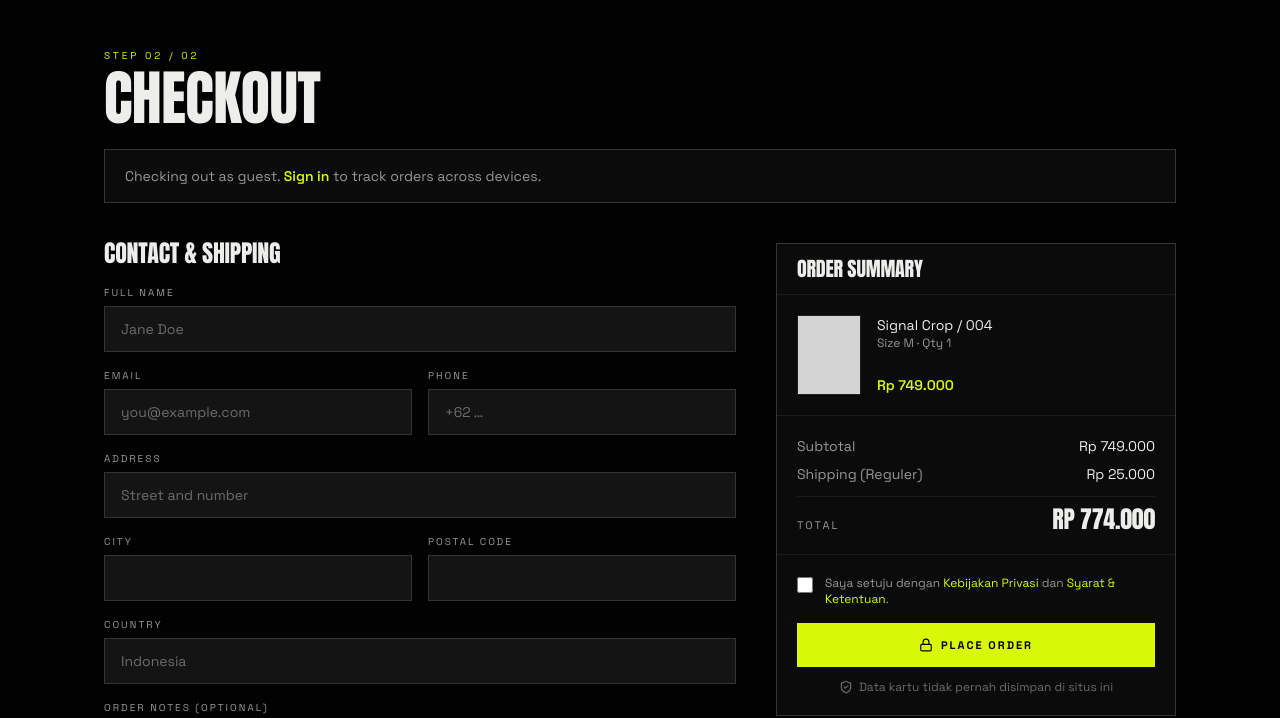
Test case: Checkout — validation › blocks submission and lists field errors when the form is empty
The width and height of the screenshot is (1280, 718).
Click the button "Place order".
click(976, 645)  # box [797, 623, 1155, 667]
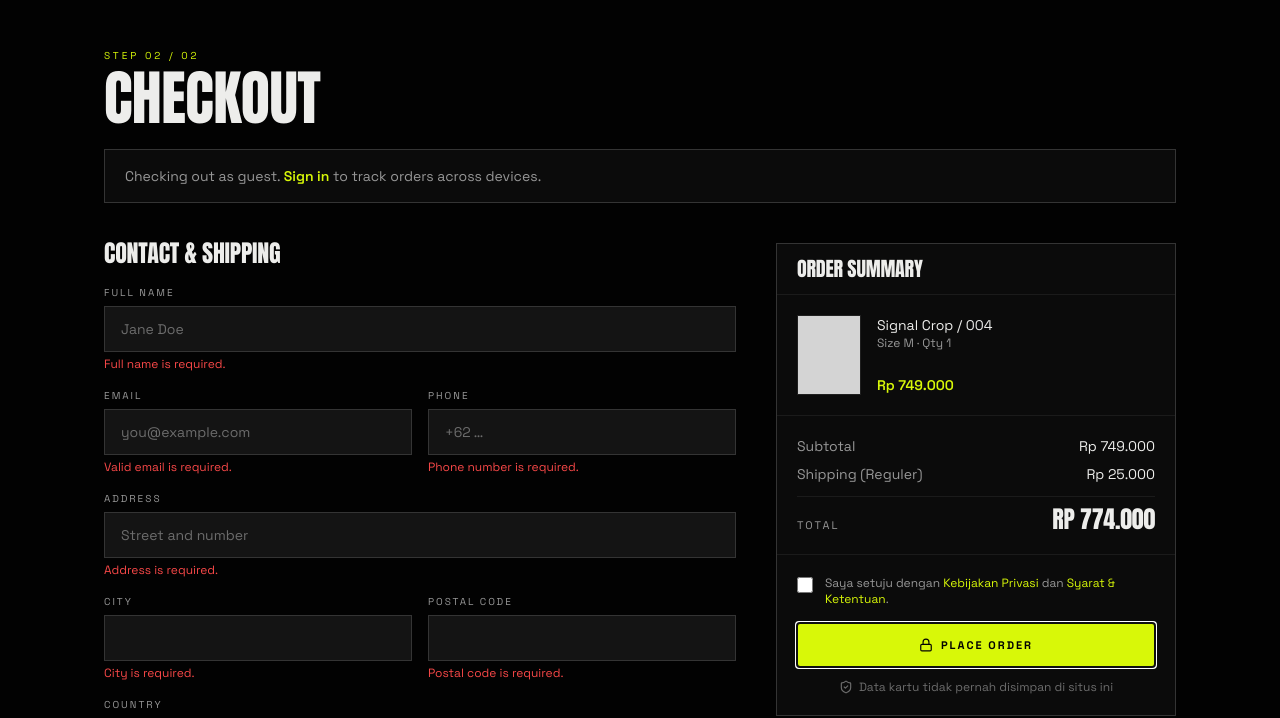
Expected: the text "Full name is required." is shown, [104, 356, 226, 372]
Expected: the text "Valid email is required." is shown, [104, 459, 232, 475]
Expected: the text "Address is required." is shown, [104, 562, 218, 578]
